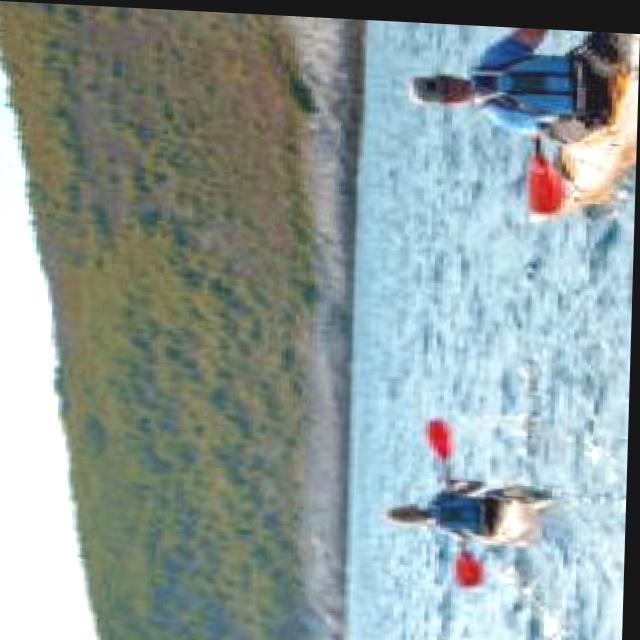kayak: (526, 25, 640, 212), (458, 480, 546, 536), (390, 505, 435, 516)
